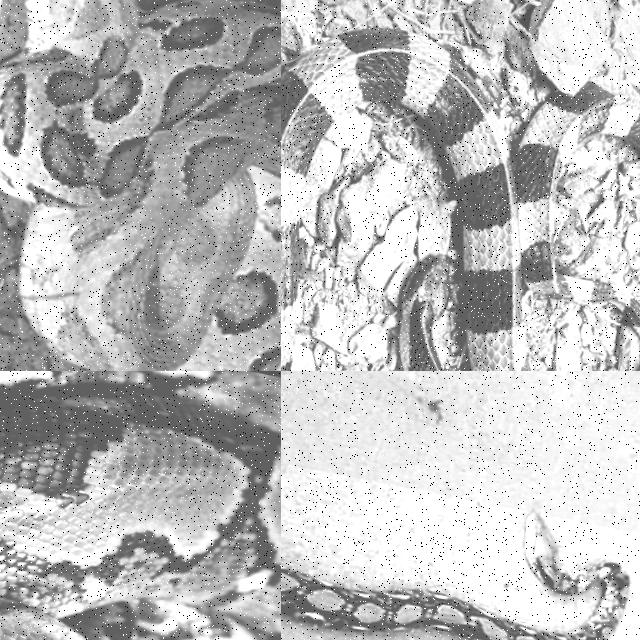Bungarus fasciatus: (281, 29, 639, 370)
Daboia siamensis: (0, 0, 280, 370)
Malayopython reticulatus: (0, 371, 280, 639), (281, 512, 629, 639)
snake: (281, 29, 639, 370), (0, 0, 280, 370), (0, 371, 280, 639), (281, 512, 629, 639)
